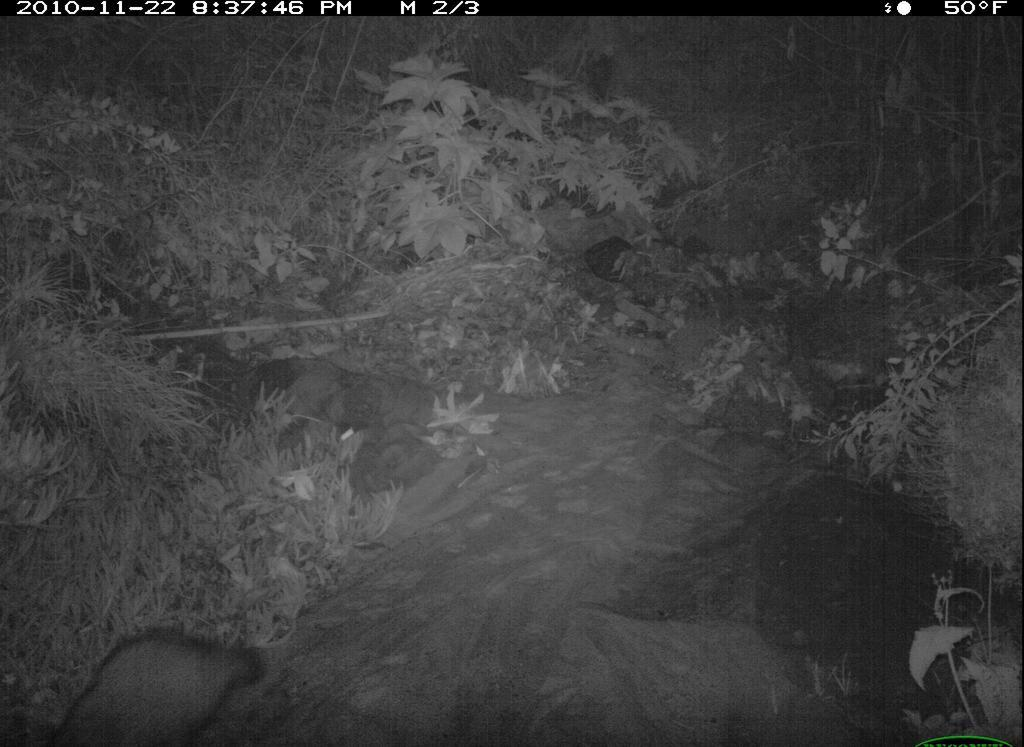raccoon: (34, 601, 321, 745)
